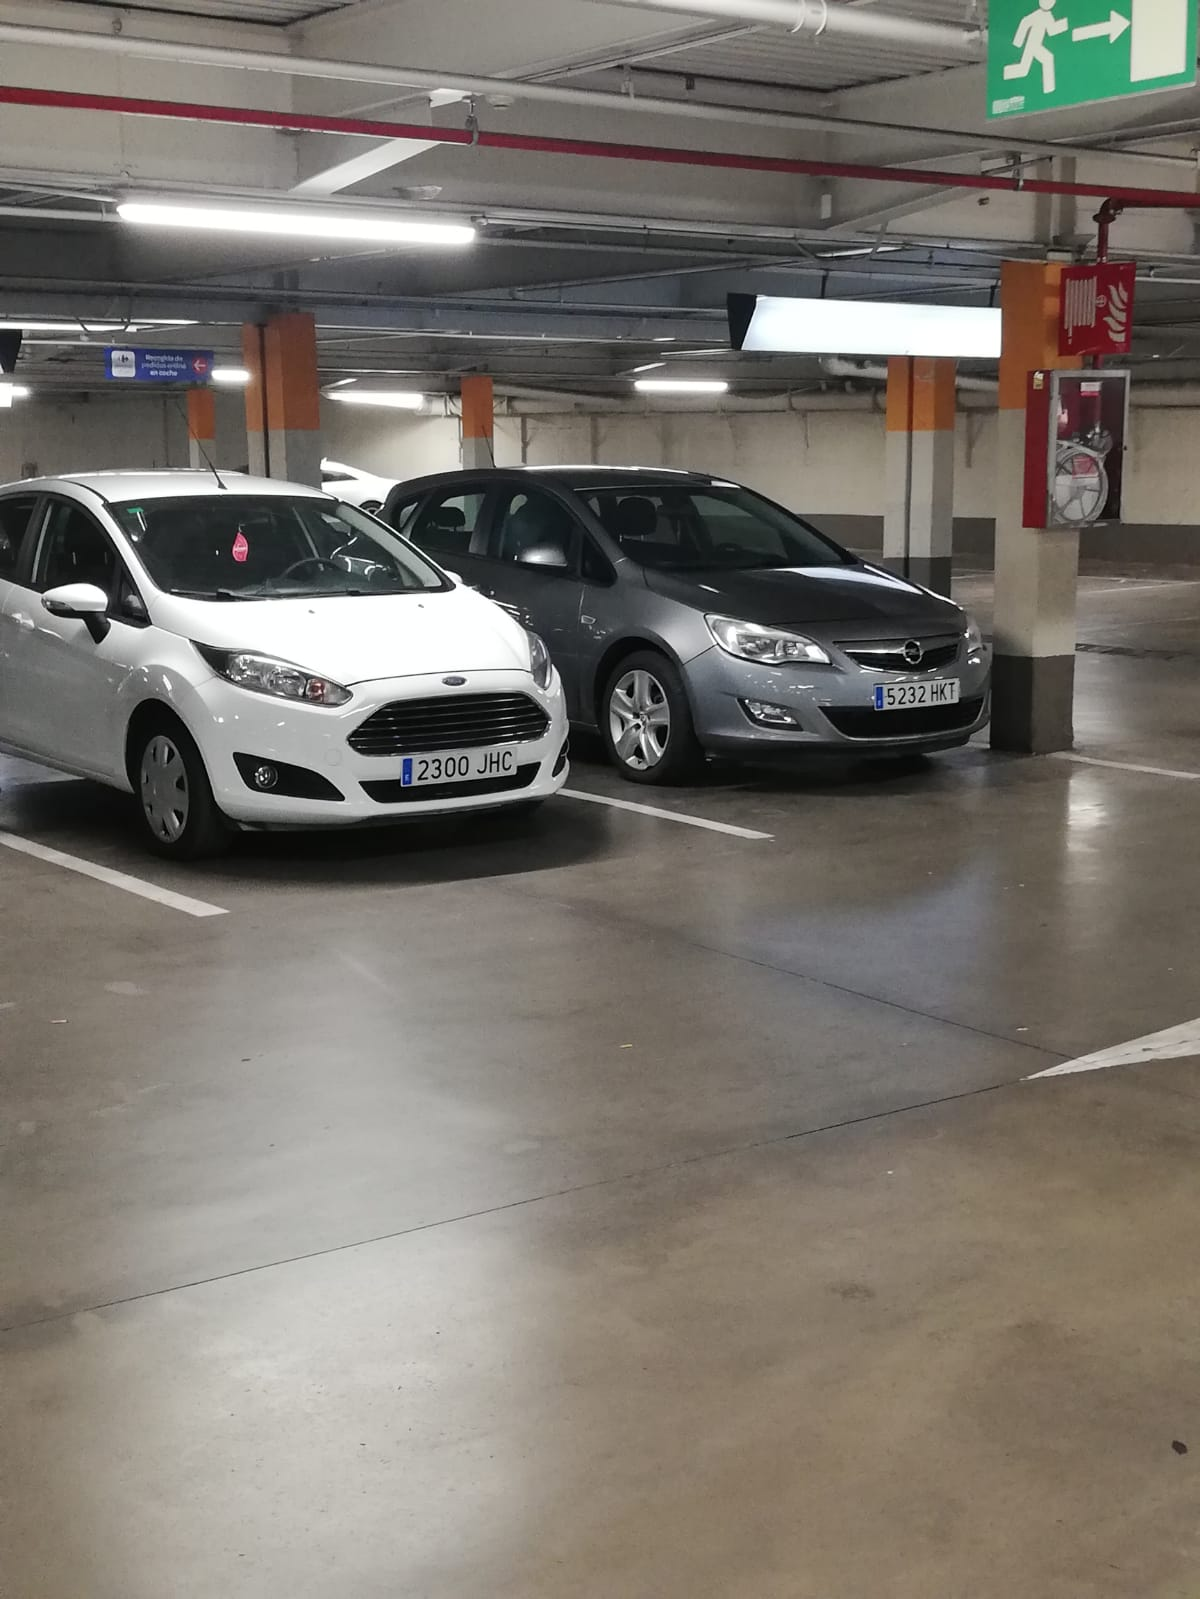Car: (0, 470, 577, 820), (449, 464, 997, 758)
Plate: (400, 758, 515, 785), (869, 687, 959, 712)
